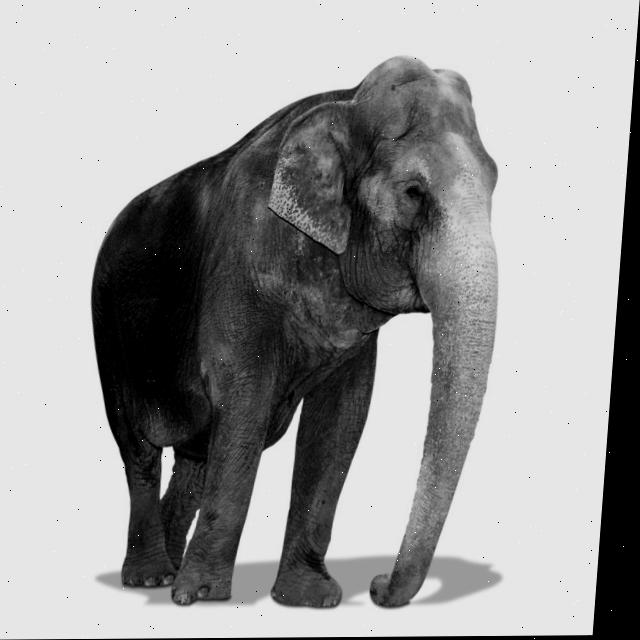Elephant: (66, 53, 517, 611)
